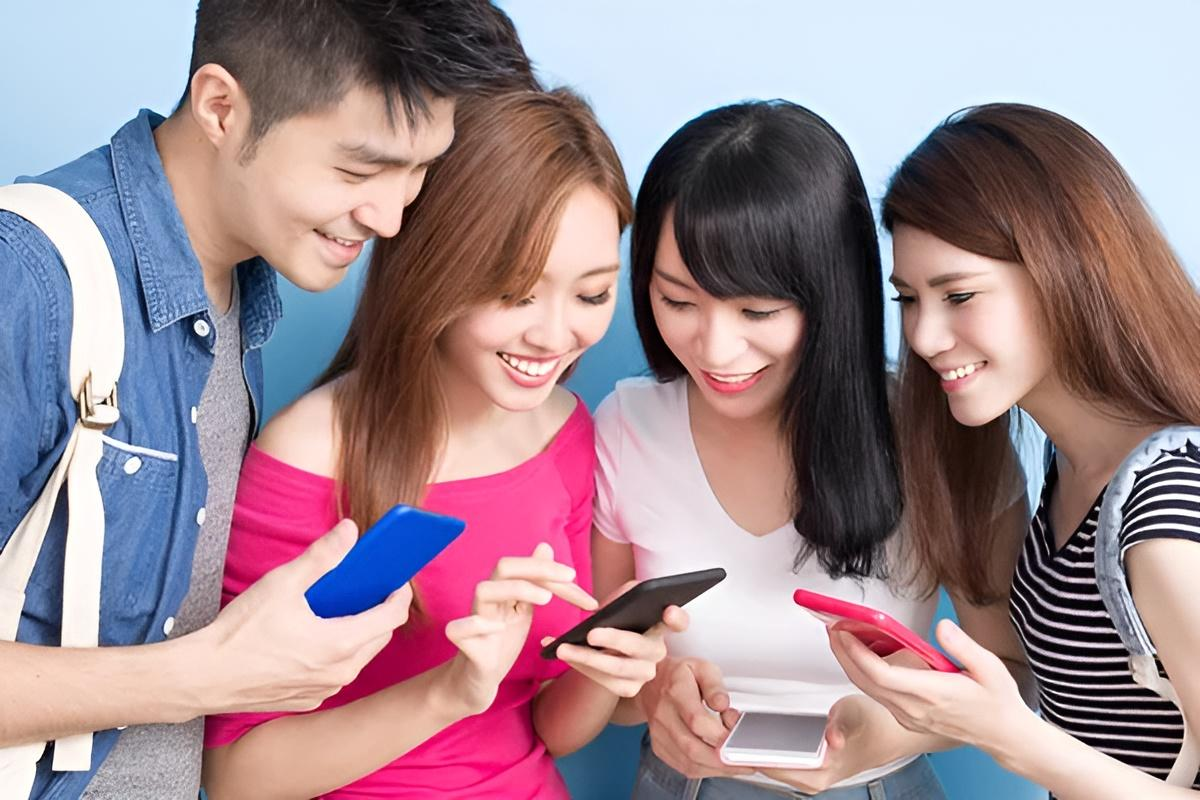phone: (243, 90, 725, 800), (0, 0, 459, 719), (801, 103, 1200, 800), (603, 90, 965, 796), (802, 85, 805, 97)
